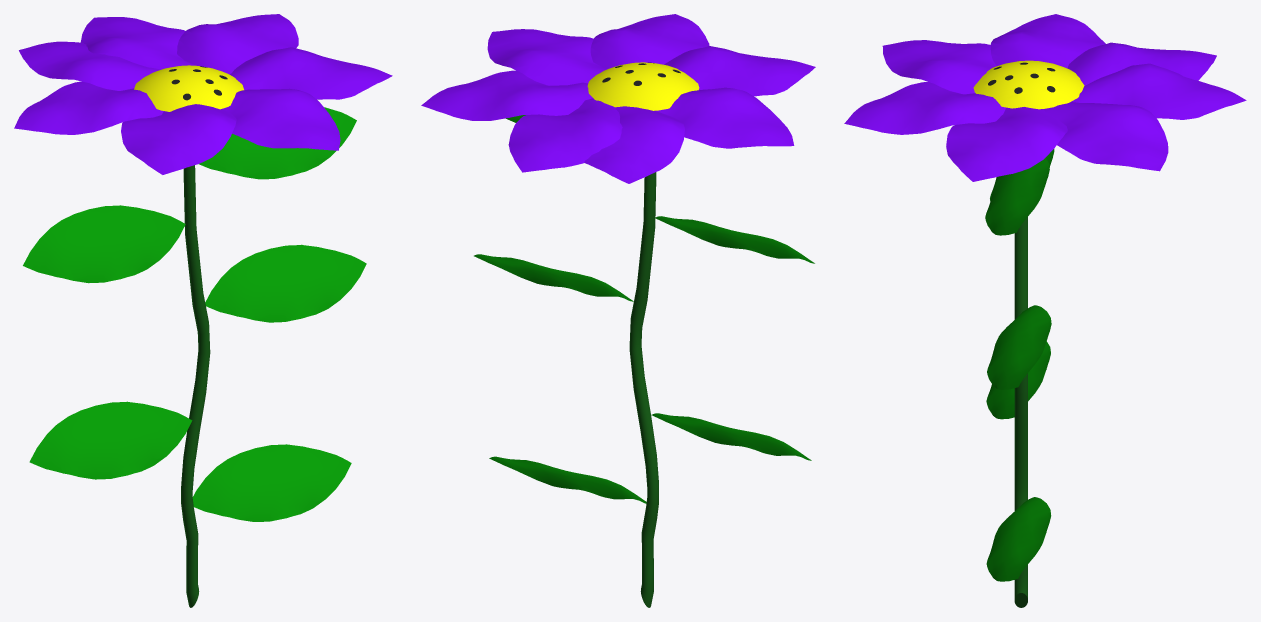
Rendered from flower2.dae.
3 views of the same model, side by side, from view 1: azimuth 30°, elevation 25°; view 2: azimuth 150°, elevation 25°; view 3: azimuth 270°, elevation 25° (orthographic).
Parts seen in each view (by area): view 1: Component_7 (×5), Component_1 (×7), Component_5, Component_3; view 2: Component_1 (×7), Component_7 (×4), Component_5, Component_3; view 3: Component_1 (×7), Component_7 (×4), Component_3, Component_5.
Part boxes in pixels (bbox=[...]): Component_7 (×5): bbox=[23, 107, 366, 521]; Component_1 (×7): bbox=[14, 14, 392, 174]; Component_5: bbox=[181, 165, 210, 607]; Component_3: bbox=[134, 65, 243, 111]; Component_1 (×7): bbox=[421, 14, 815, 183]; Component_7 (×4): bbox=[474, 216, 814, 503]; Component_5: bbox=[629, 172, 658, 607]; Component_3: bbox=[587, 62, 699, 110]; Component_1 (×7): bbox=[844, 14, 1246, 181]; Component_7 (×4): bbox=[985, 158, 1051, 581]; Component_3: bbox=[973, 60, 1084, 109]; Component_5: bbox=[1014, 217, 1027, 607].
Size of the model in its own units: 11608 by 11541 by 17073.
